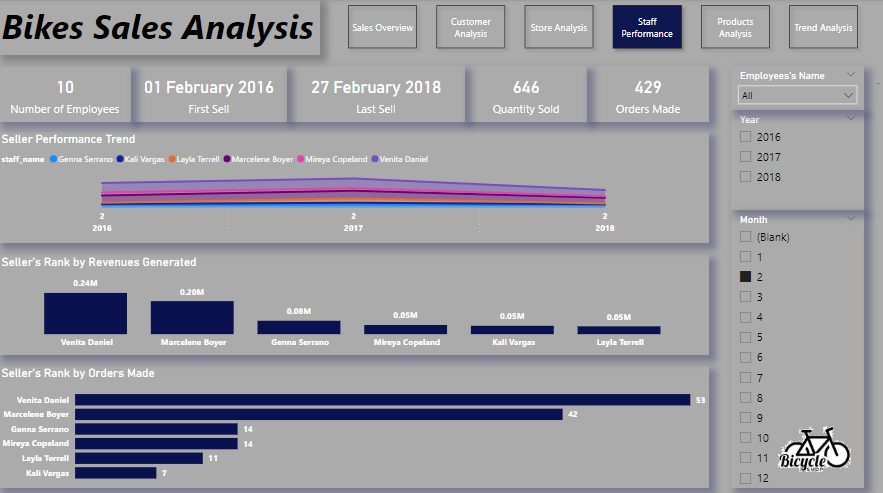

This screenshot's page, from the dashboard's own definition file:
{"tool":"powerbi","page":{"name":"Staff Performance","canvas":[1280,720],"ordinal":3},"visuals":[{"type":"textbox","box":[0,0,1280,80],"z":0},{"type":"card","fields":{"Values":["Min(orders.order_date)"]},"box":[192,96,224,80],"z":0,"group":"g1"},{"type":"card","fields":{"Values":["Sum(order_items.quantity)"]},"box":[672,96,176,80],"z":1000,"group":"g1"},{"type":"columnChart","title":"Seller''s Rank by Revenues Generated","fields":{"Category":["staffs.staff_name"],"Y":["Sum(order_items.Revenue)"]},"box":[0,368,1024,144],"z":1000},{"type":"card","fields":{"Values":["CountNonNull(order_items.order_id)"]},"box":[848,96,176,80],"z":2000,"group":"g1"},{"type":"clusteredBarChart","title":"Seller''s Rank by Orders Made","fields":{"Category":["staffs.staff_name"],"Y":["CountNonNull(orders.order_id)"]},"box":[0,528,1024,176],"z":2000},{"type":"card","fields":{"Values":["Max(orders.order_date)"]},"box":[416,96,256,80],"z":3000,"group":"g1"},{"type":"stackedAreaChart","title":"Seller Performance Trend","fields":{"Category":["orders.Year","orders.Month"],"Y":["Sum(order_items.quantity)"],"Series":["staffs.staff_name"]},"box":[0,192,1024,160],"z":3000},{"type":"card","fields":{"Values":["Count(staffs.staff_name)"]},"box":[0,96,192,80],"z":4000,"group":"g1"},{"type":"slicer","fields":{"Values":["orders.Year"]},"box":[1056,160,192,144],"z":4000},{"type":"slicer","fields":{"Values":["orders.Month"]},"box":[1056,304,192,400],"z":5000},{"type":"slicer","fields":{"Values":["staffs.staff_name"]},"box":[1056,96,192,64],"z":6000},{"type":"group","id":"g1","title":"Group 1","box":[0,96,1024,80],"z":7000},{"type":"actionButton","box":[0,0,464,80],"z":8000},{"type":"pageNavigator","box":[496,0,752,80],"z":9000}]}

Visuals, with their boxes in screenshot pixels (x1, y1, x2, y2), scaled from the page's 1280x720 canvas onto the 883x493 screenshot:
textbox: x1=0 y1=0 x2=882 y2=55
card - Min(orders.order_date): x1=132 y1=66 x2=287 y2=121
card - Sum(order_items.quantity): x1=464 y1=66 x2=585 y2=121
"Seller''s Rank by Revenues Generated" columnChart: x1=0 y1=252 x2=706 y2=351
card - CountNonNull(order_items.order_id): x1=585 y1=66 x2=706 y2=121
"Seller''s Rank by Orders Made" clusteredBarChart: x1=0 y1=362 x2=706 y2=482
card - Max(orders.order_date): x1=287 y1=66 x2=464 y2=121
"Seller Performance Trend" stackedAreaChart: x1=0 y1=131 x2=706 y2=241
card - Count(staffs.staff_name): x1=0 y1=66 x2=132 y2=121
slicer - orders.Year: x1=728 y1=110 x2=861 y2=208
slicer - orders.Month: x1=728 y1=208 x2=861 y2=482
slicer - staffs.staff_name: x1=728 y1=66 x2=861 y2=110
"Group 1" group: x1=0 y1=66 x2=706 y2=121
actionButton: x1=0 y1=0 x2=320 y2=55
pageNavigator: x1=342 y1=0 x2=861 y2=55
